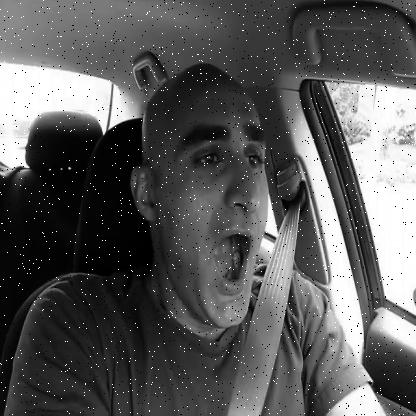seatbelt: (106, 63, 294, 416)
